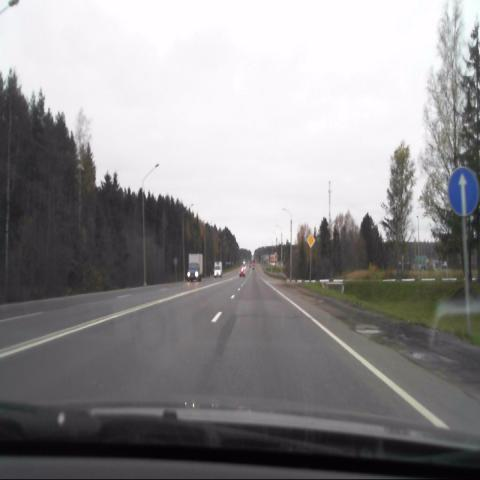4_1_1: (449, 168, 477, 216)
